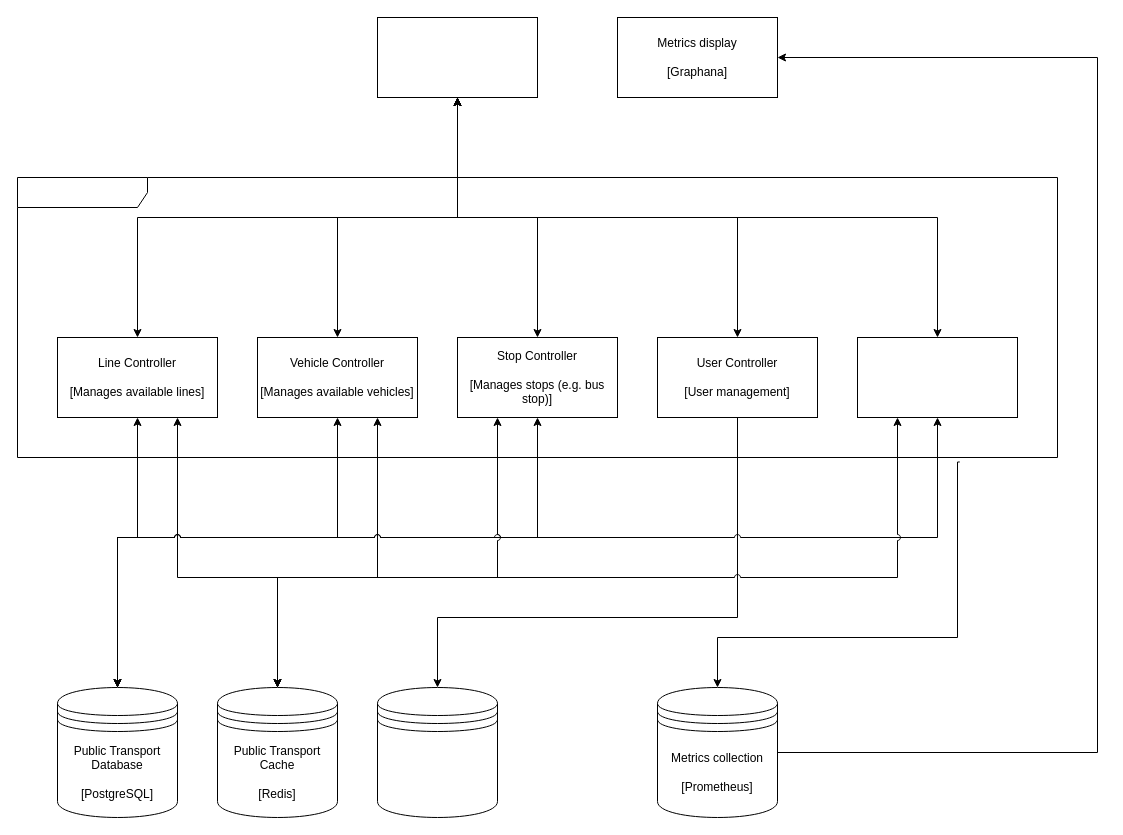
Image size: 1123x835. Some labels were removed from this diagram. The box of each missing label's shape, as (x1, y1, x2, y2) in pixels:
.NET API: (16, 176, 1058, 458)
LineStop Controller [Manage line & stop aggregate]: (856, 336, 1018, 418)
Public Transport User Database [PostgreSQL]: (376, 686, 498, 818)
Single-Page Application [Angular WebApp]: (376, 16, 538, 98)
